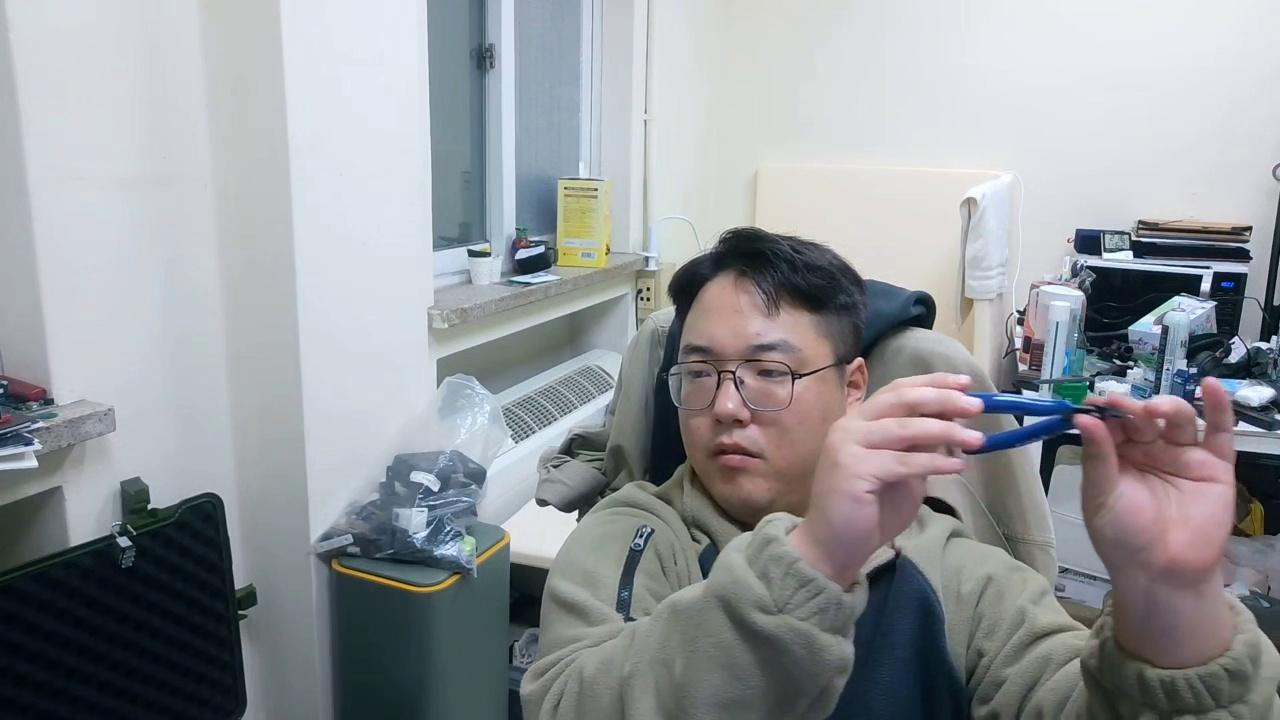blue_pliers: (959, 389, 1132, 457)
